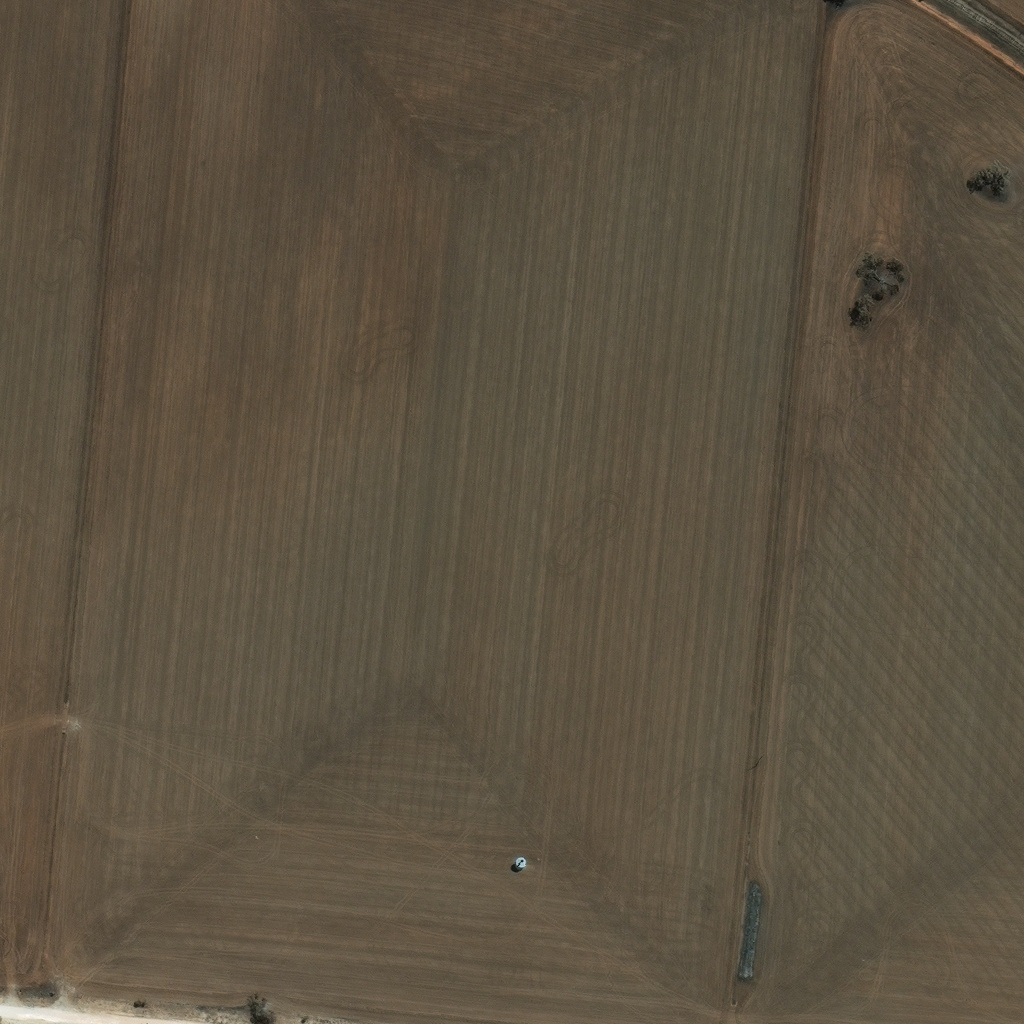4 un-classified: (271, 922, 280, 931)
